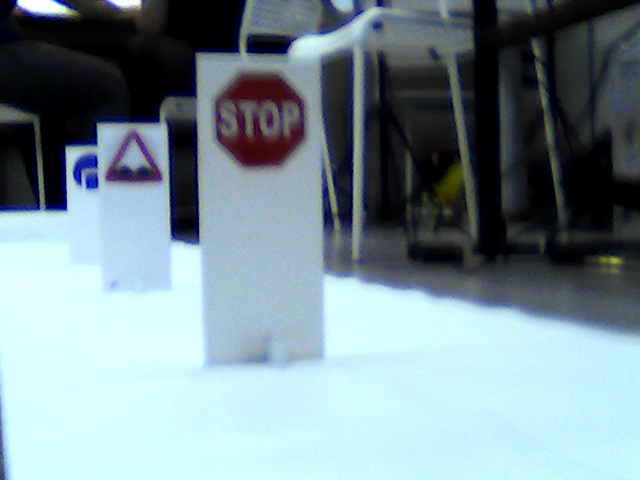Nerov: (105, 129, 165, 182)
Stop: (213, 70, 307, 172)
